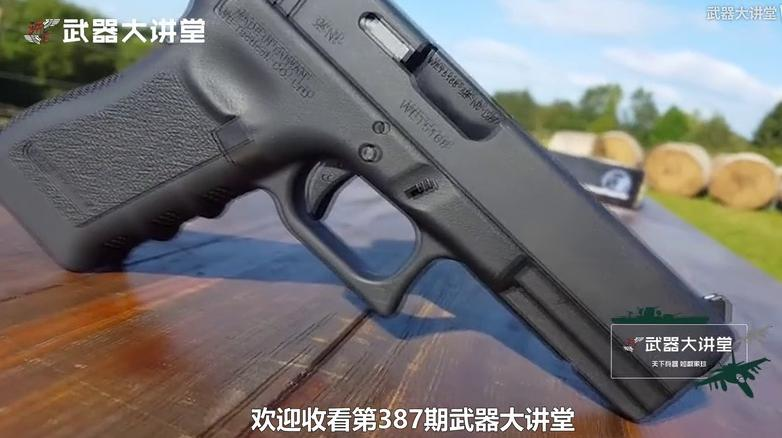gun: (1, 0, 782, 438)
